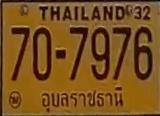0: (32, 27, 51, 80)
6: (133, 26, 152, 79)
7: (69, 26, 87, 78), (112, 26, 130, 78), (11, 26, 29, 78)
9: (90, 27, 109, 79)
UBN: (40, 85, 125, 113)
